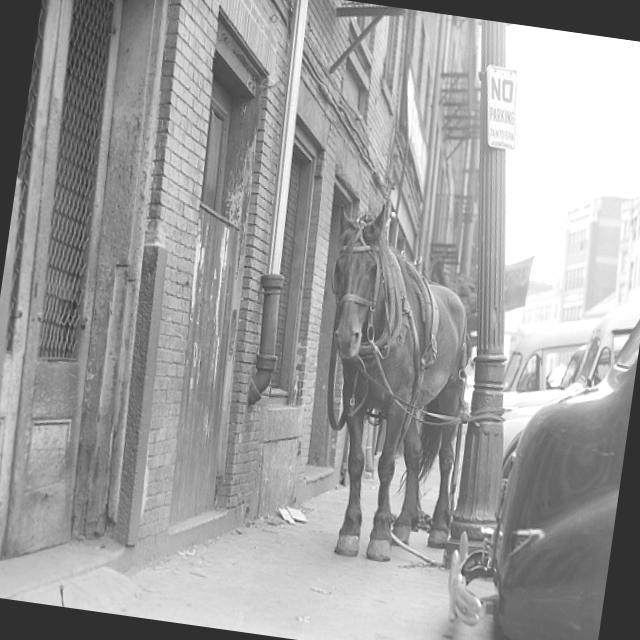Vehicle: (498, 247, 640, 591), (491, 307, 611, 469), (556, 279, 640, 411)
